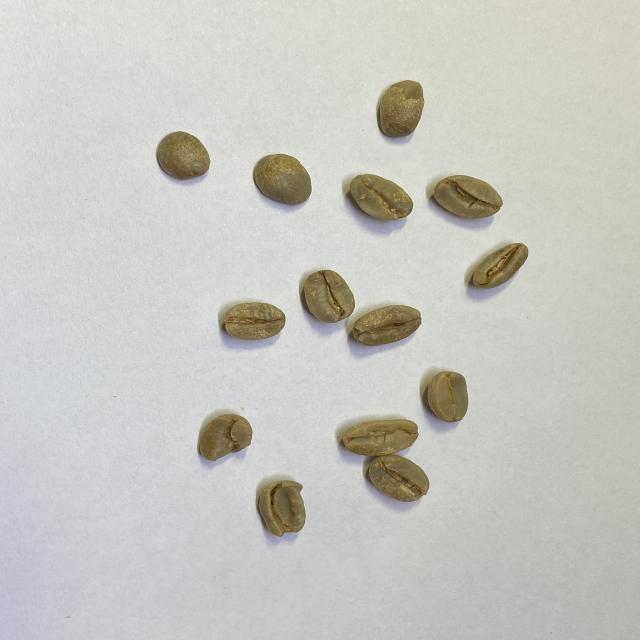bad: (256, 478, 309, 538), (342, 417, 421, 455), (471, 241, 528, 290), (198, 414, 253, 462)
good: (432, 174, 504, 221), (349, 172, 414, 223), (253, 153, 313, 206), (367, 454, 429, 504), (303, 268, 357, 324), (375, 80, 426, 139), (156, 130, 211, 182), (352, 305, 422, 345), (223, 302, 286, 341), (428, 370, 468, 422)
